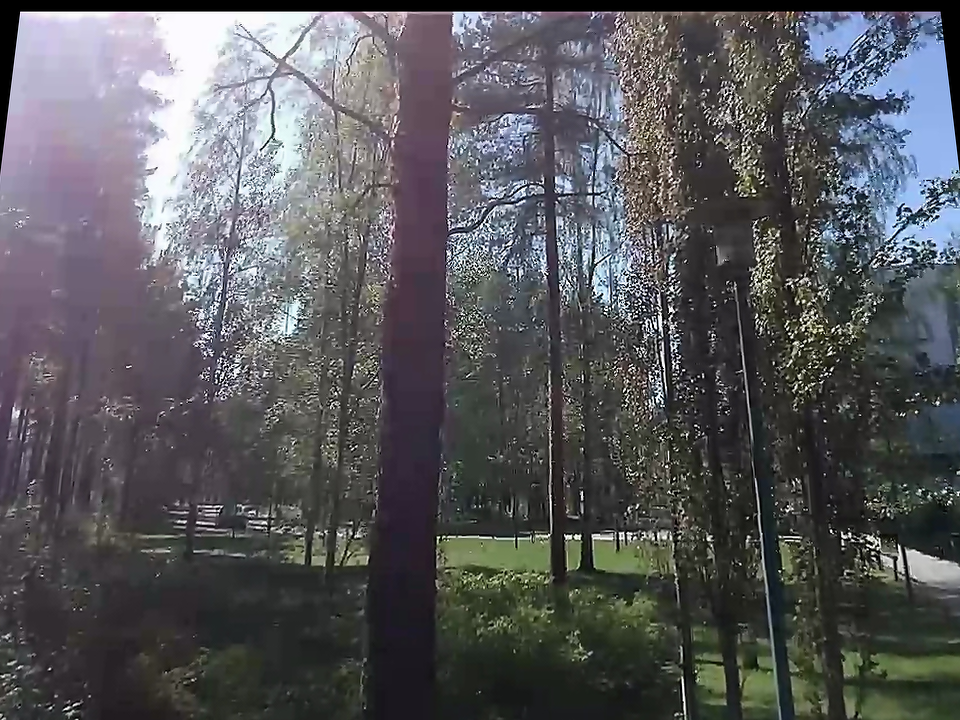branch: (487, 184, 614, 213), (446, 204, 497, 240), (347, 173, 390, 200)
trunk: (367, 134, 454, 635), (539, 148, 570, 597)
